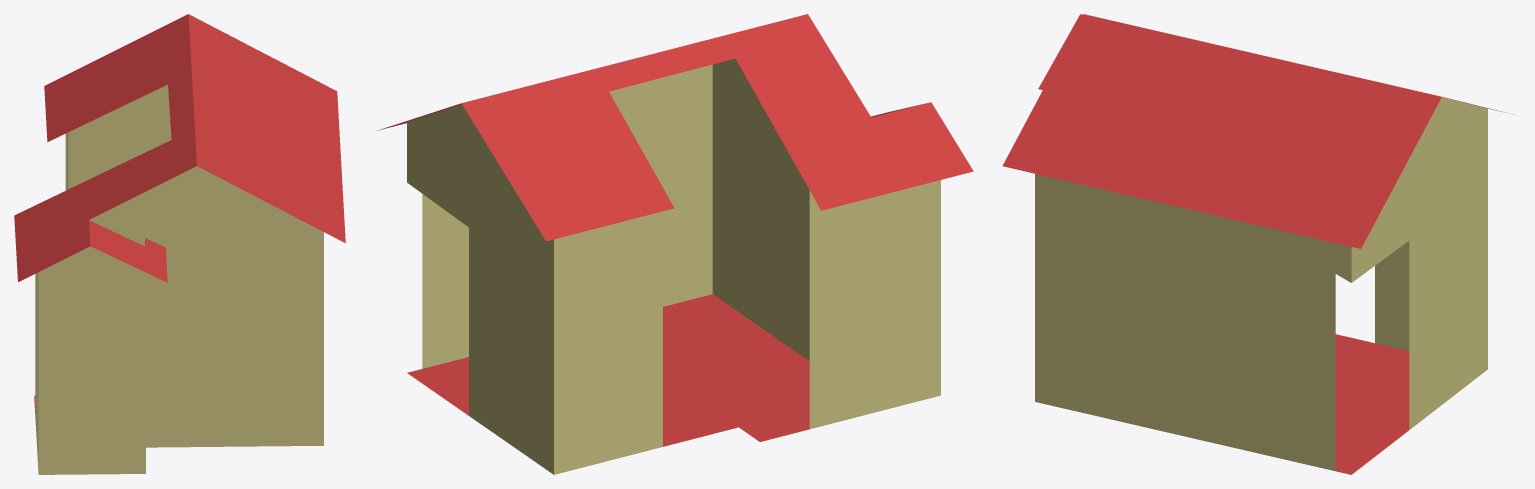
3 renders of one model, left to right at view 1: azimuth 30°, elevation 25°; view 2: azimuth 150°, elevation 25°; view 3: azimuth 270°, elevation 25°, orthographic. The views are drawn at different scales.
Visible parts, largest first — view 1: group_5, group_3, group_9, group_7, group_8, group_4; view 2: group_5, group_3, group_6, group_4; view 3: group_5, group_3, group_6.
Part boxes in pixels (bbox=[...]): group_5: bbox=[35, 84, 323, 474]; group_3: bbox=[14, 14, 345, 282]; group_9: bbox=[89, 246, 145, 474]; group_7: bbox=[89, 220, 166, 282]; group_8: bbox=[90, 238, 167, 282]; group_4: bbox=[22, 85, 89, 277]; group_5: bbox=[407, 58, 940, 474]; group_3: bbox=[376, 14, 973, 241]; group_6: bbox=[407, 294, 809, 446]; group_4: bbox=[547, 103, 965, 239]; group_5: bbox=[1035, 97, 1487, 471]; group_3: bbox=[1002, 14, 1513, 248]; group_6: bbox=[1335, 334, 1409, 474].
Size of the model in its own units: 17.46 by 16.21 by 11.36.
